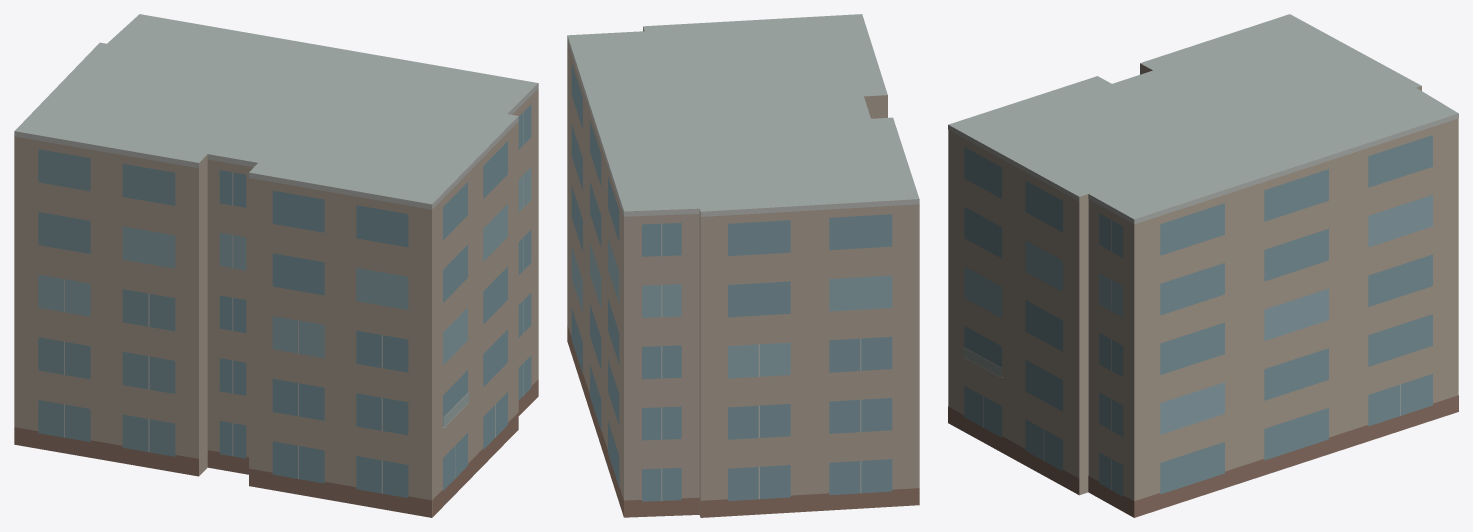
File: survey-upis-32742506.glb
3 renders of one model, left to right at view 1: azimuth 30°, elevation 25°; view 2: azimuth 150°, elevation 25°; view 3: azimuth 270°, elevation 25°, orthographic. The views are drawn at different scales.
Parts seen in each view (by area): view 1: survey-upis-32742506.tmp; view 2: survey-upis-32742506.tmp; view 3: survey-upis-32742506.tmp.
Boxes of the visible parts, bbox=[...] form: survey-upis-32742506.tmp: bbox=[14, 14, 538, 517]; survey-upis-32742506.tmp: bbox=[567, 14, 919, 517]; survey-upis-32742506.tmp: bbox=[948, 14, 1458, 517].
Bounding box in the file's own units: 21.35 × 14.45 × 22.42.
